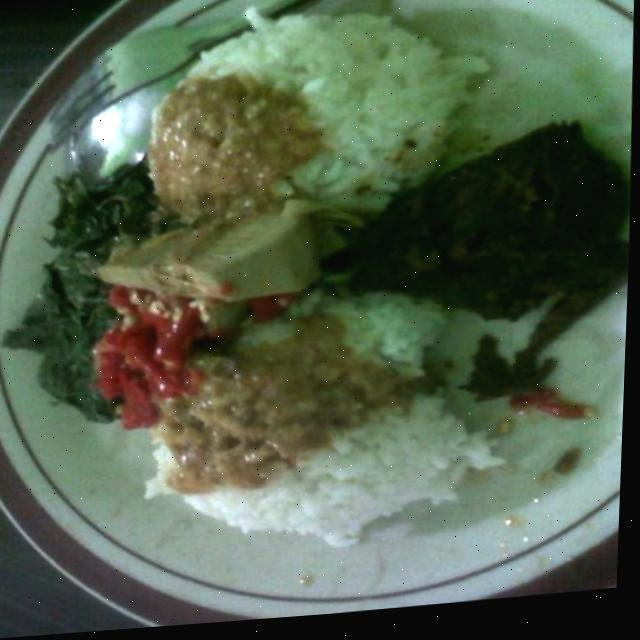米饭主食: (0, 0, 627, 620)
